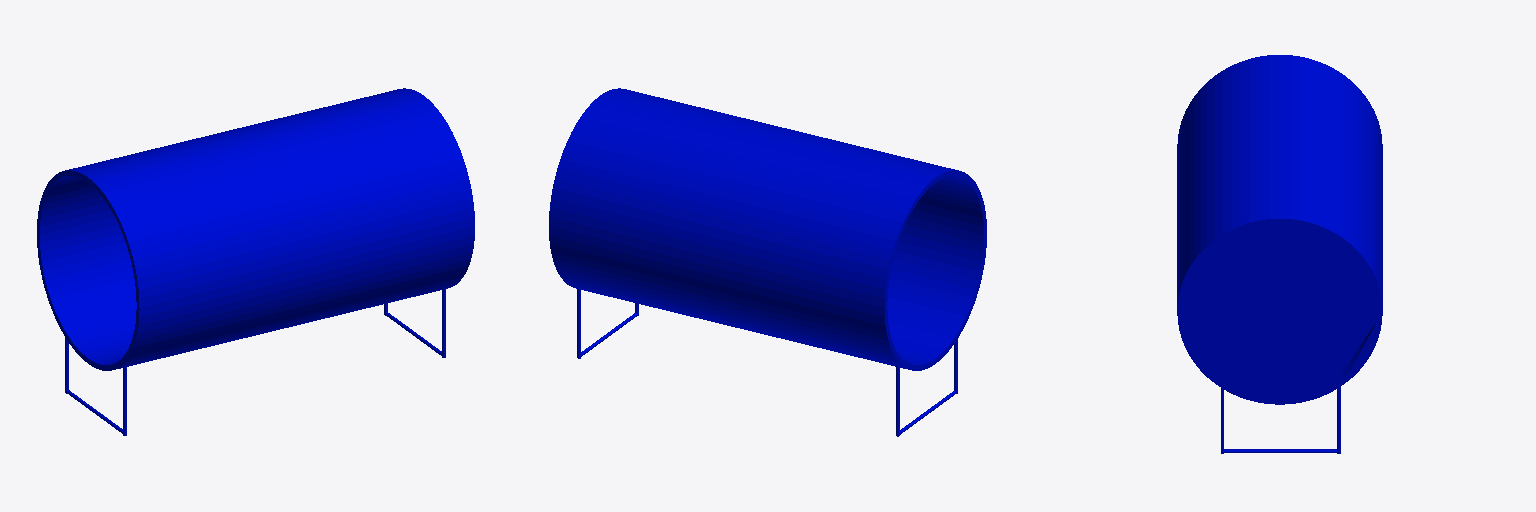
Rendered from Cano20cm.obj.
3 renders of one model, left to right at view 1: azimuth 30°, elevation 25°; view 2: azimuth 150°, elevation 25°; view 3: azimuth 270°, elevation 25°, orthographic.
Visible parts, largest first — view 1: Cylinder.001_Cylinder.002, Cylinder.002_Cylinder.006, Cylinder.003_Cylinder.005; view 2: Cylinder.001_Cylinder.002, Cylinder.002_Cylinder.006, Cylinder.003_Cylinder.005; view 3: Cylinder.001_Cylinder.002, Cylinder.003_Cylinder.005.
Part boxes in pixels (x1,y1,x2,y2): Cylinder.001_Cylinder.002: (37, 88, 474, 370); Cylinder.002_Cylinder.006: (65, 338, 126, 435); Cylinder.003_Cylinder.005: (384, 288, 445, 357); Cylinder.001_Cylinder.002: (549, 88, 986, 370); Cylinder.002_Cylinder.006: (896, 339, 957, 436); Cylinder.003_Cylinder.005: (577, 288, 638, 358); Cylinder.001_Cylinder.002: (1177, 55, 1382, 404); Cylinder.003_Cylinder.005: (1221, 387, 1340, 453).
Bounding box in the file's own units: 0.2 × 0.1359 × 0.106.